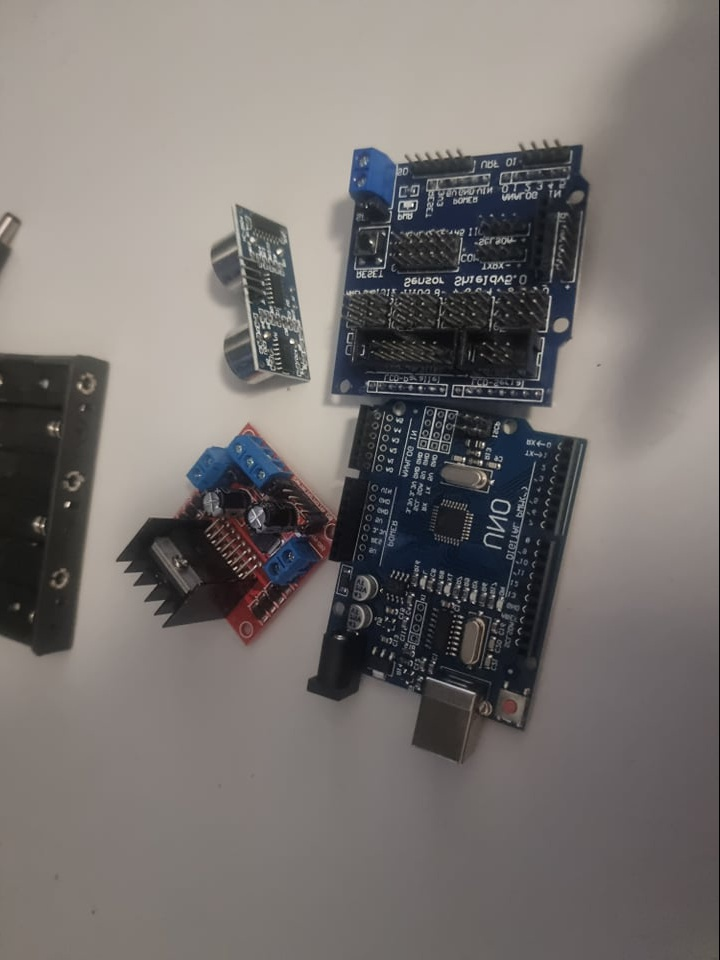5V EXPANSION: (332, 140, 597, 399)
BATTERY BOX: (1, 325, 110, 665)
MOTOR: (117, 419, 335, 648)
SENSOR: (211, 201, 315, 385)
UNO R3: (303, 402, 596, 769)
